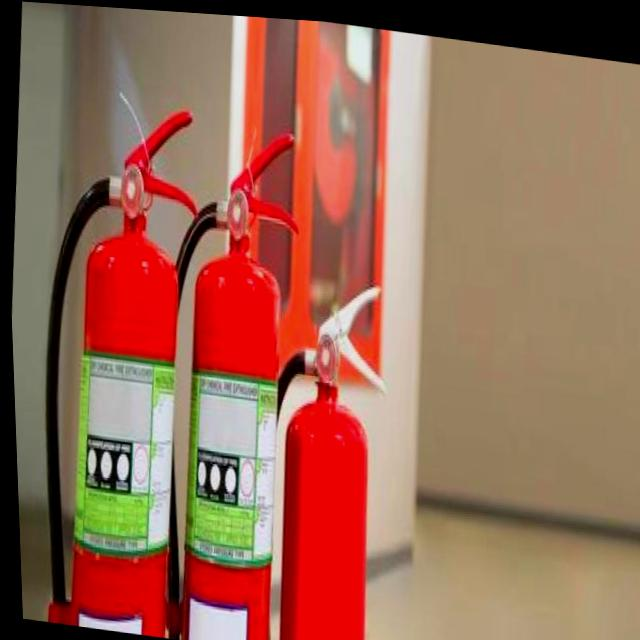FireExtinguisher: (9, 80, 217, 638), (125, 104, 319, 640), (226, 255, 405, 640)
